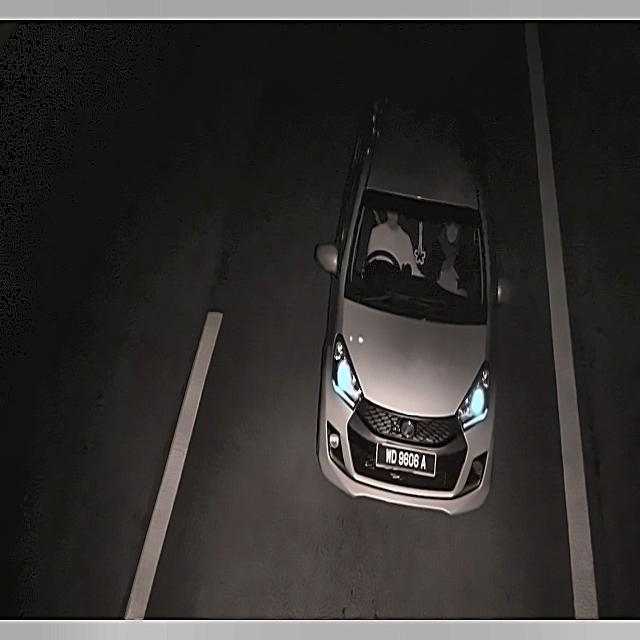car: (371, 435, 442, 482)
